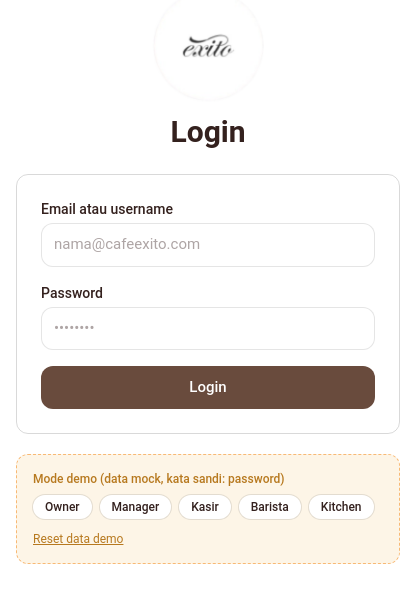
Test: alur lengkap dengan data mock › login salah menampilkan pesan galat yang jelas
The width and height of the screenshot is (417, 599).
Type "ucup" into the field labelled "Email atau username" at (208,245), box [41, 223, 375, 267]
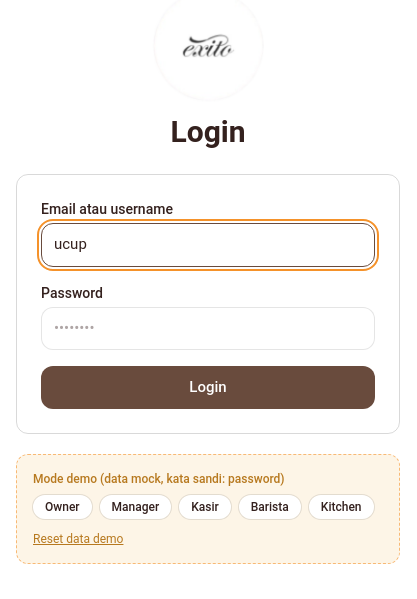
Type "salah-sandi" into the password field labelled "Password" at (208,328), box [41, 307, 375, 350]
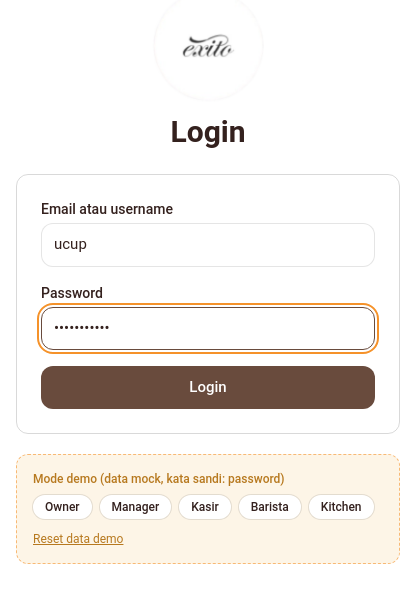
Click the button "Login" at (208,387), box [41, 366, 375, 409]
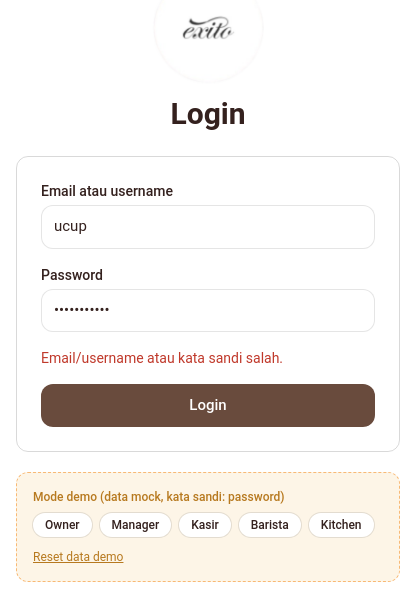
Expected: the message shows "salah", [41, 350, 283, 366]
